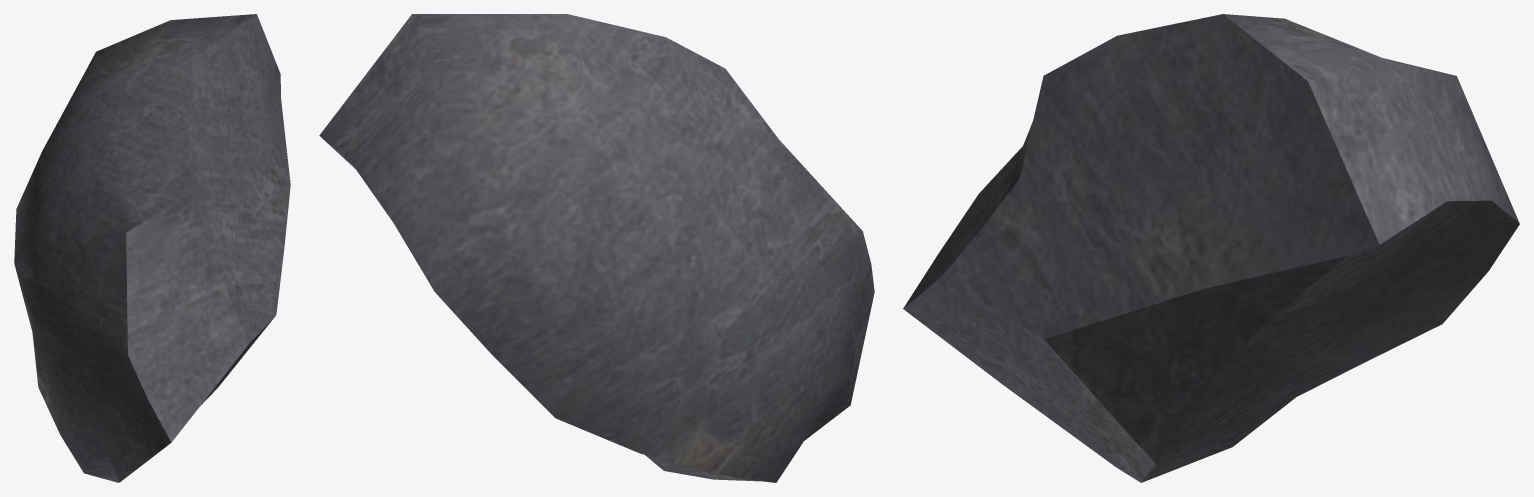
The model's file is wrock437.glb.
3 views of the same model, side by side, from view 1: azimuth 30°, elevation 25°; view 2: azimuth 150°, elevation 25°; view 3: azimuth 270°, elevation 25° (orthographic). The views are drawn at different scales.
Parts seen in each view (by area): view 1: rock3_002_m_rocks_0; view 2: rock3_002_m_rocks_0; view 3: rock3_002_m_rocks_0.
Part boxes in pixels (x1,y1,x2,y2): rock3_002_m_rocks_0: (14,14,290,482); rock3_002_m_rocks_0: (319,14,874,482); rock3_002_m_rocks_0: (903,14,1519,482).
Bounding box in the file's own units: 0.4322 × 0.4942 × 0.5205.
Materials: 1 (1 with a texture image).
